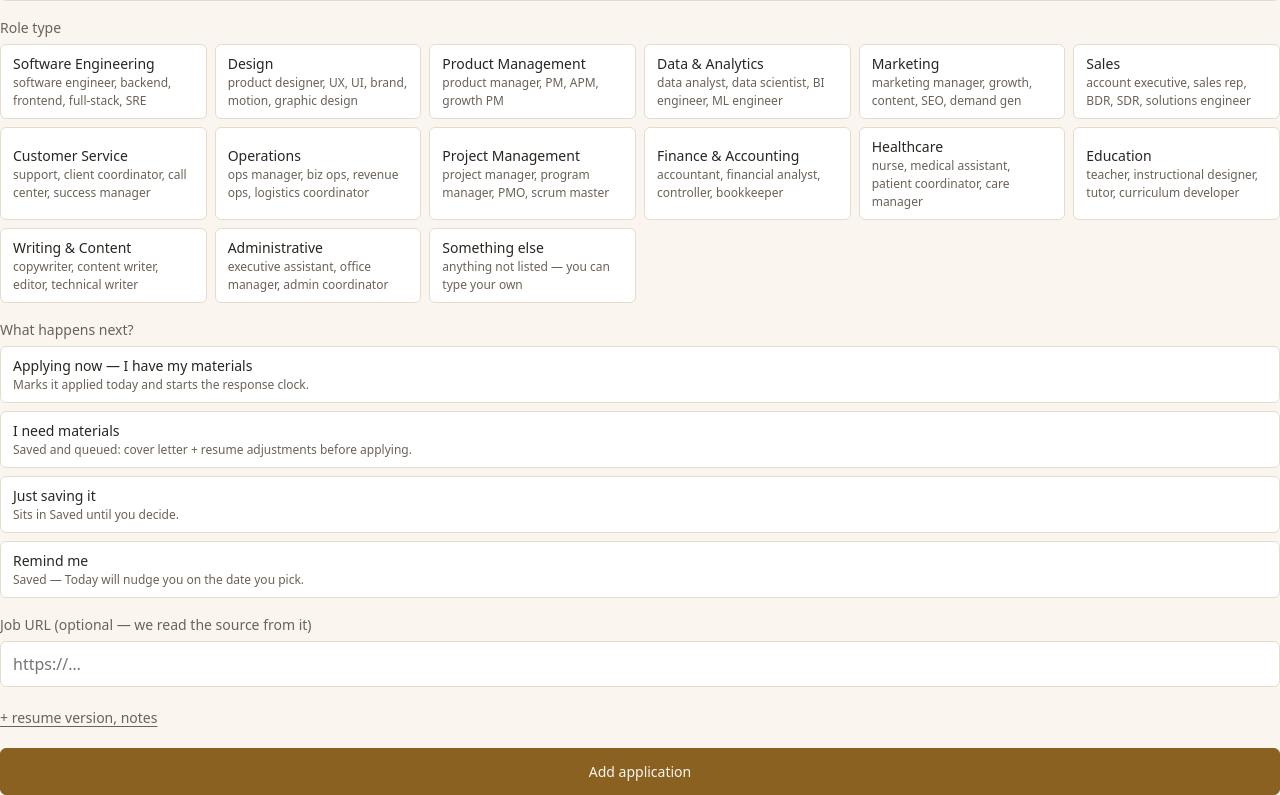
Test case: CaptureForm (M3: one form, ≤7 fields, role_type required) › blocks submit without company/position/role_type
(page scrolled)
Click the button "Add application": (640, 772) [0, 748, 1279, 794]
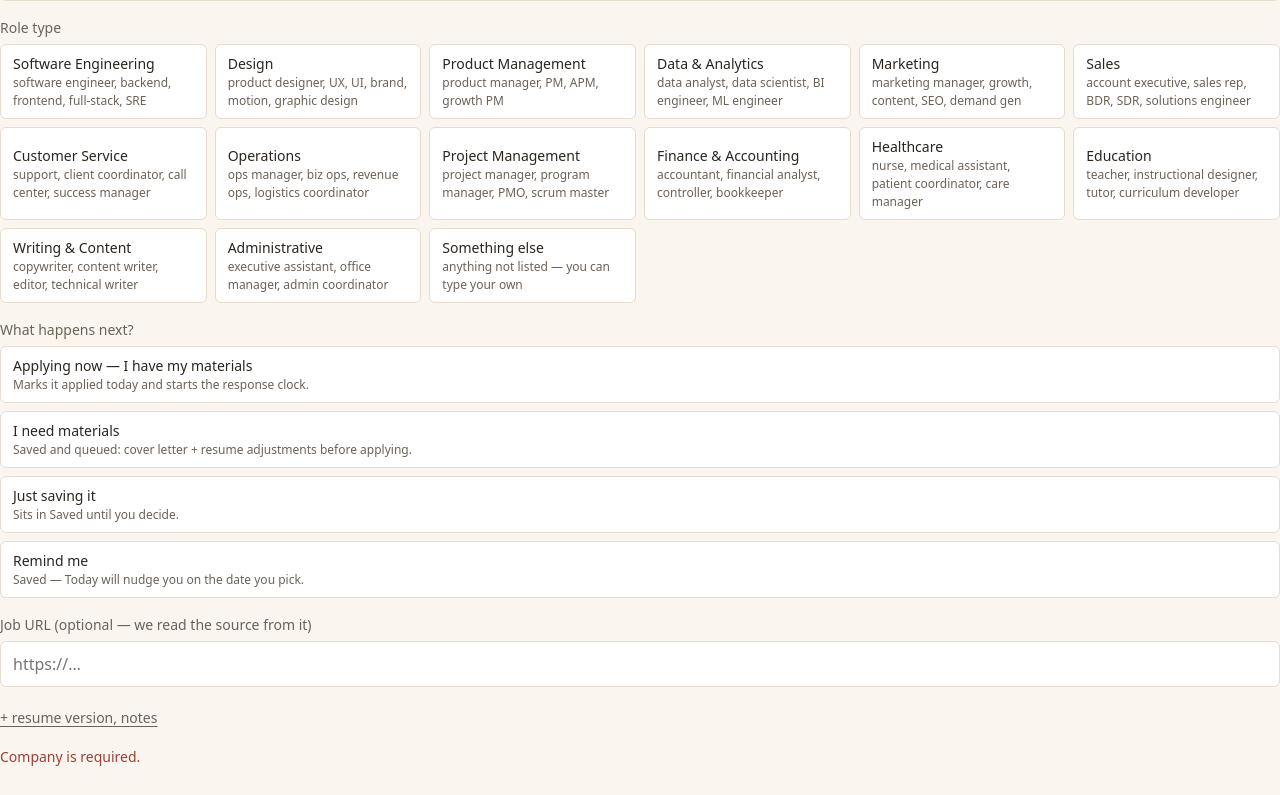
Expected: the message "Company is required." is shown, [0, 747, 140, 766]
